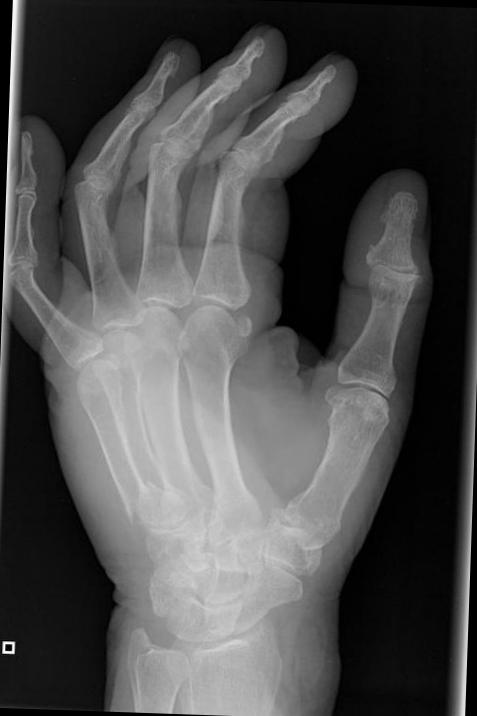fracture: (122, 478, 155, 527)
